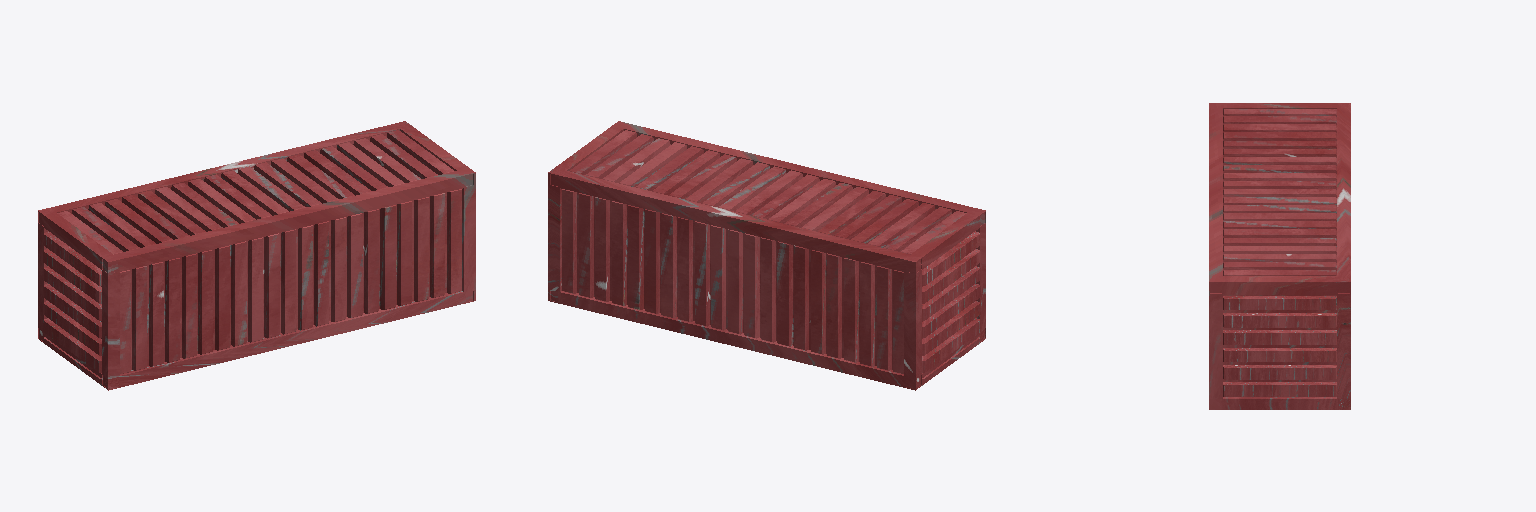
The picture shows the model from 3 angles: view 1: azimuth 30°, elevation 25°; view 2: azimuth 150°, elevation 25°; view 3: azimuth 270°, elevation 25°; orthographic projection.
Parts seen in each view (by area): view 1: Cube.003, Cube, Cube.004, Cube.002; view 2: Cube.001, Cube, Cube.004, Cube.002; view 3: Cube.004, Cube, Cube.005.
Part boxes in pixels (x1,y1,x2,y2): Cube.003: (120,189,461,373); Cube: (38,121,475,390); Cube.004: (57,130,453,264); Cube.002: (43,231,101,378); Cube.001: (562,189,903,373); Cube: (548,121,985,390); Cube.004: (570,130,966,264); Cube.002: (922,231,980,378); Cube.004: (1223,109,1336,275); Cube: (1209,103,1350,409); Cube.005: (1223,296,1336,396).
Bounding box in the file's own units: 30.14 × 10 × 10.
1 materials, 1 textured.